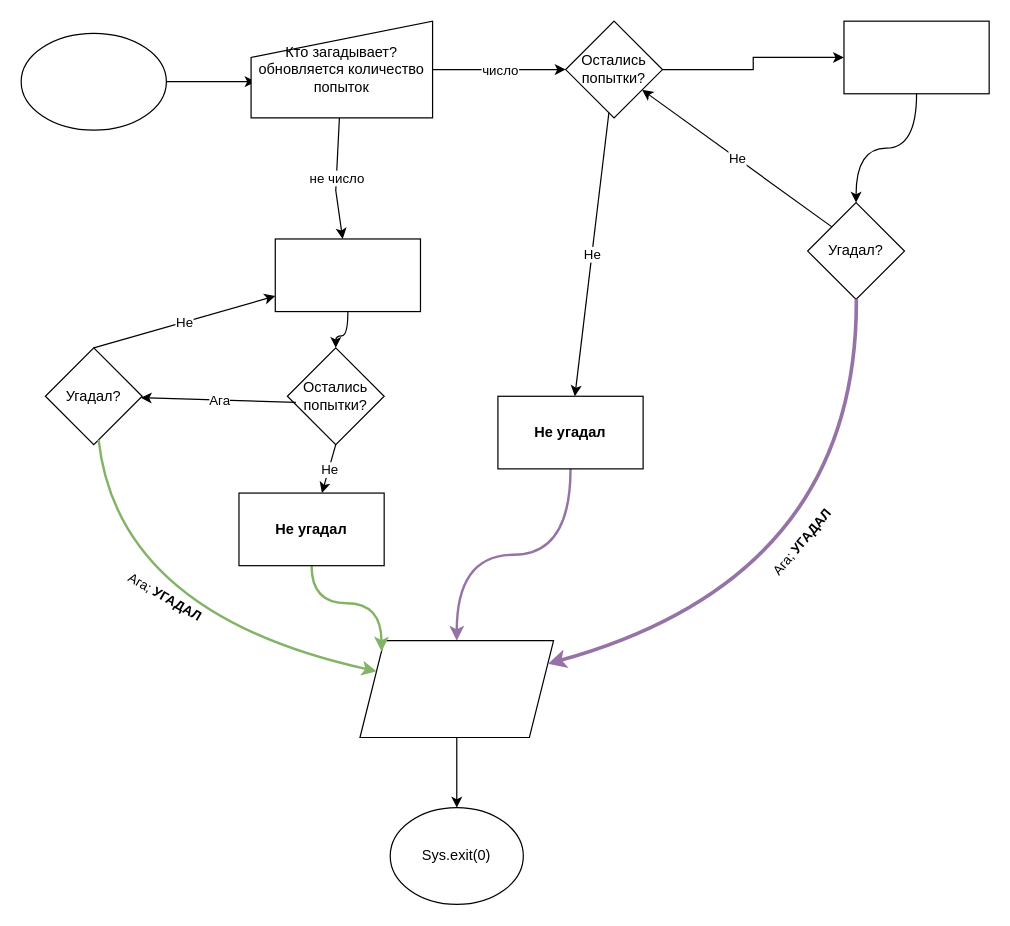
The diagram is 1010 pixels wide and 926 high, and some of its shapes have lost their labels. Each missing label, with the box of its shape:
Init: (20, 32, 166, 130)
Вывод: (359, 639, 554, 737)
Компьютер загадал; Мы пытаемся угадать: (274, 238, 420, 312)
Компьютер пытается угадать; попытки -=1: (843, 20, 989, 94)
